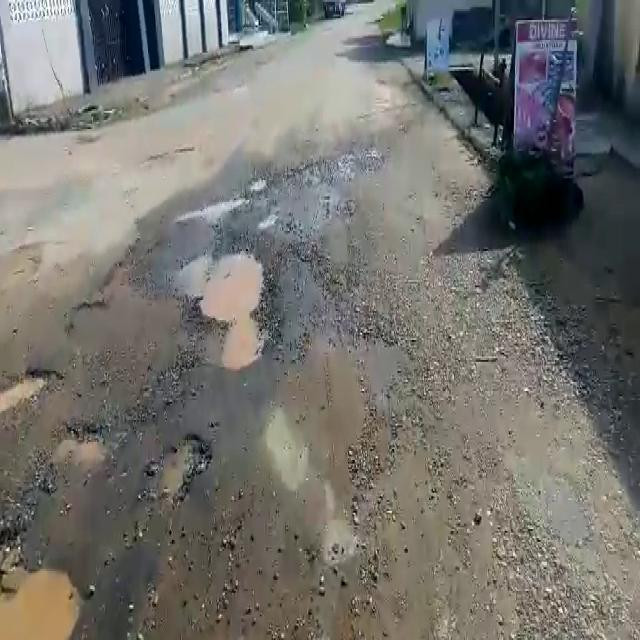pothole: (169, 242, 278, 363), (0, 562, 83, 640), (140, 426, 210, 506), (2, 364, 64, 416), (187, 188, 253, 226)
